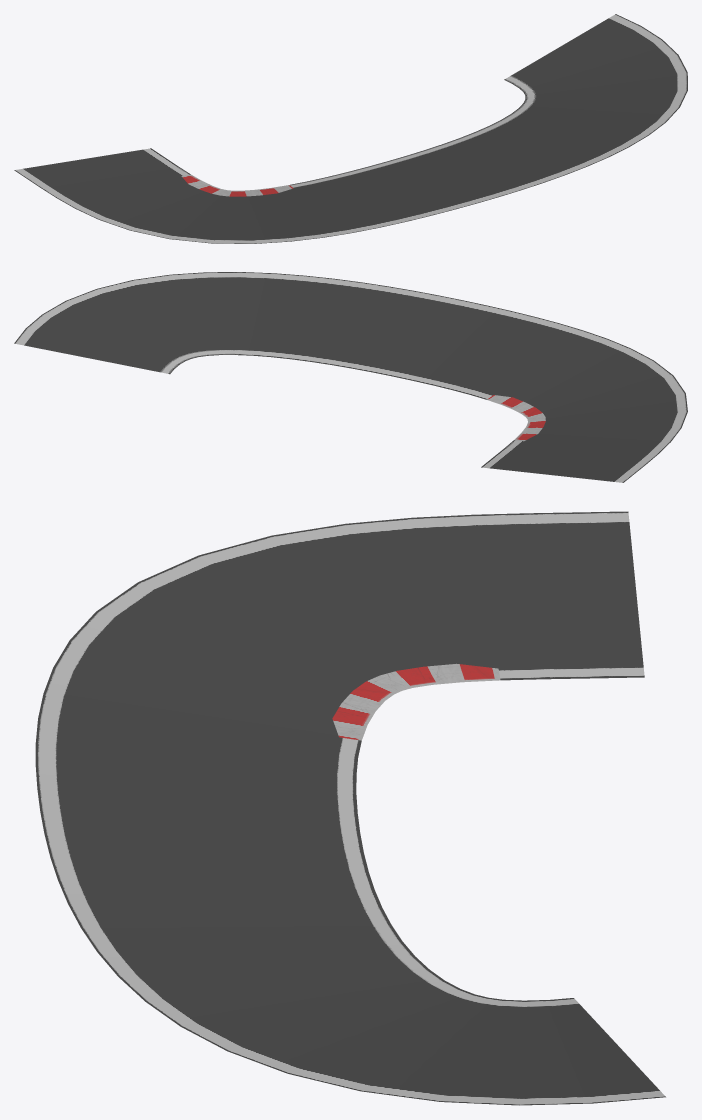
Rendered from sm_road.006.fbx.
3 views of the same model, one above another, from view 1: azimuth 30°, elevation 25°; view 2: azimuth 150°, elevation 25°; view 3: azimuth 270°, elevation 25° (orthographic). The views are drawn at different scales.
Parts seen in each view (by area): view 1: sm_road.016; view 2: sm_road.016; view 3: sm_road.016.
Boxes of the visible parts, x1,y1,x2,y2 form: sm_road.016: (14, 14, 687, 243); sm_road.016: (14, 272, 687, 482); sm_road.016: (35, 511, 665, 1105).
Size of the model in its own units: 64 by 1.54 by 28.71.
